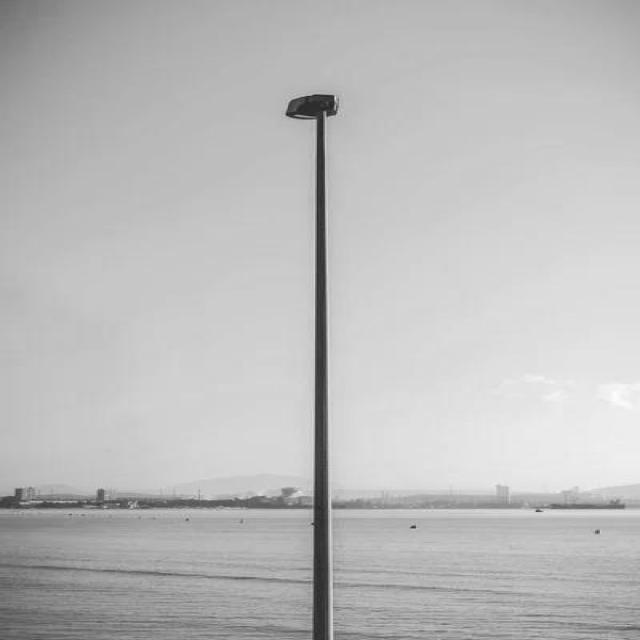Pole: (286, 94, 338, 639)
